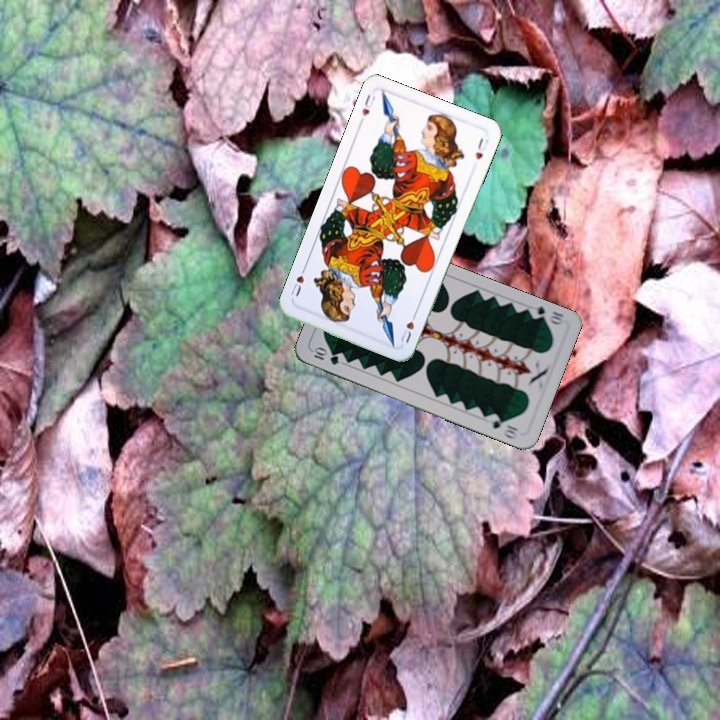G10: (526, 302, 567, 327), (309, 344, 342, 368)
HU: (396, 307, 420, 346), (358, 90, 378, 119)
